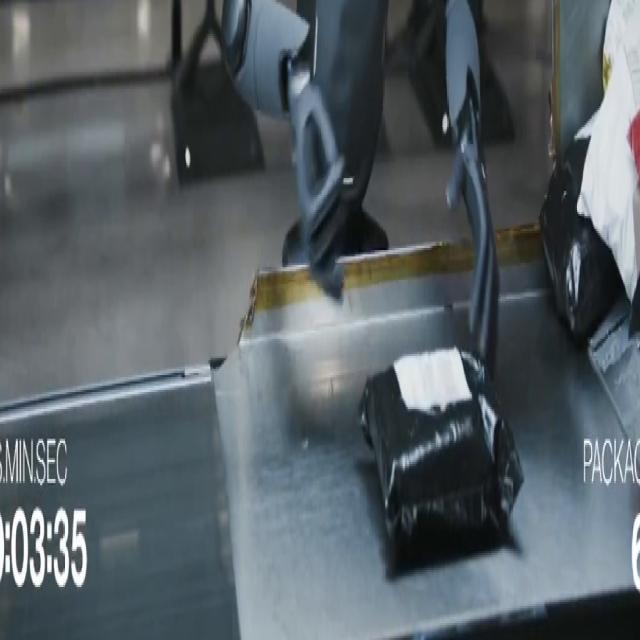package: (360, 350, 523, 544), (577, 15, 639, 300), (539, 138, 621, 343), (603, 0, 639, 91)
